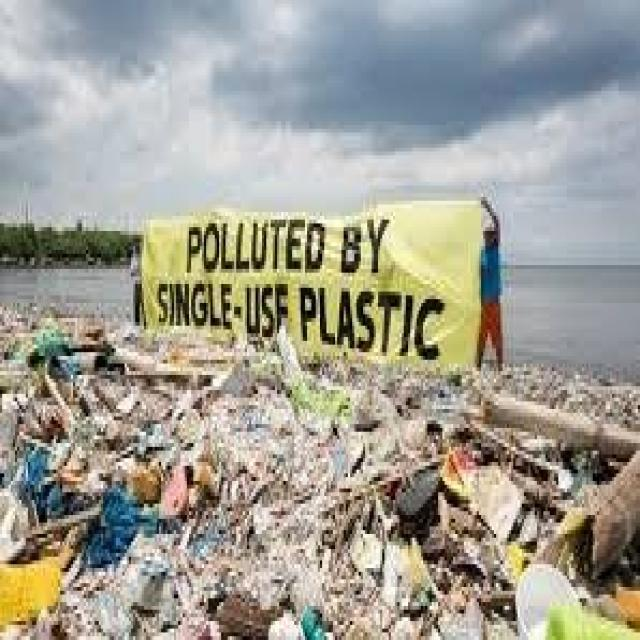heap: (3, 342, 439, 640)
